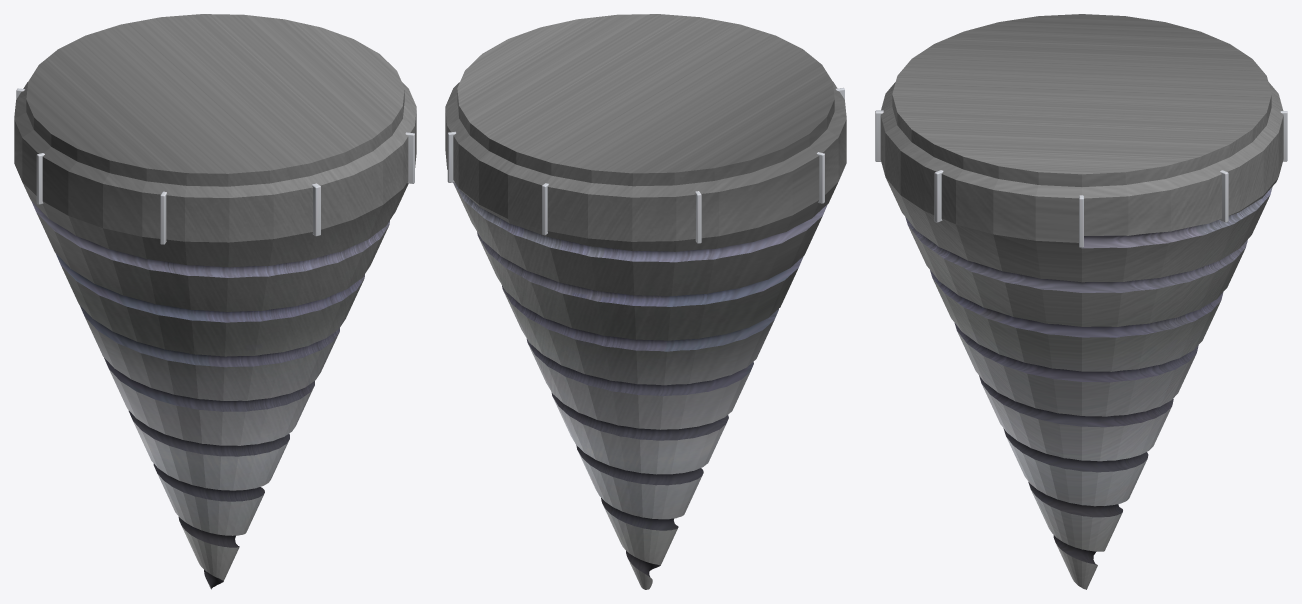
3 renders of one model, left to right at view 1: azimuth 30°, elevation 25°; view 2: azimuth 150°, elevation 25°; view 3: azimuth 270°, elevation 25°, orthographic.
Parts seen in each view (by area): view 1: Circle001; view 2: Circle001; view 3: Circle001.
Boxes of the visible parts, box(x1,y1,x2,y2) form: Circle001: box(14, 14, 416, 589); Circle001: box(445, 14, 846, 589); Circle001: box(880, 14, 1283, 589).
Bounding box in the file's own units: 2.04 × 2.71 × 2.04.
2 materials, 2 textured.
